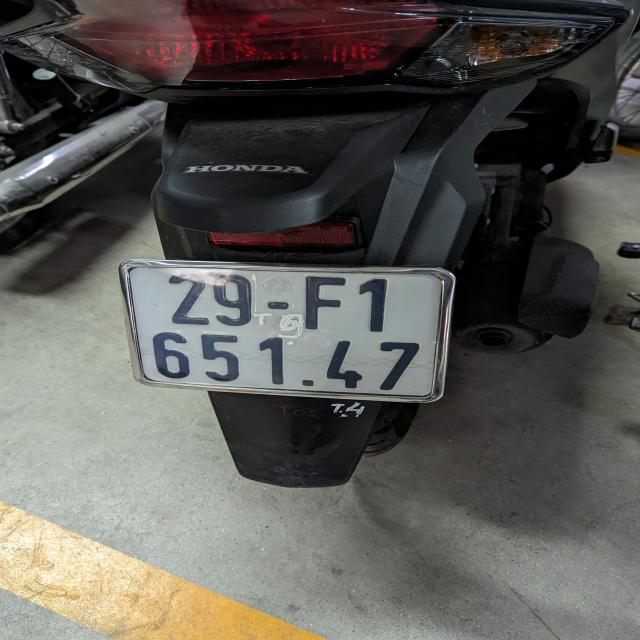License: (118, 258, 456, 404)
